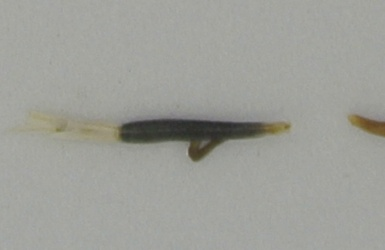เมล็ดงอกแตก: (6, 112, 293, 163)
